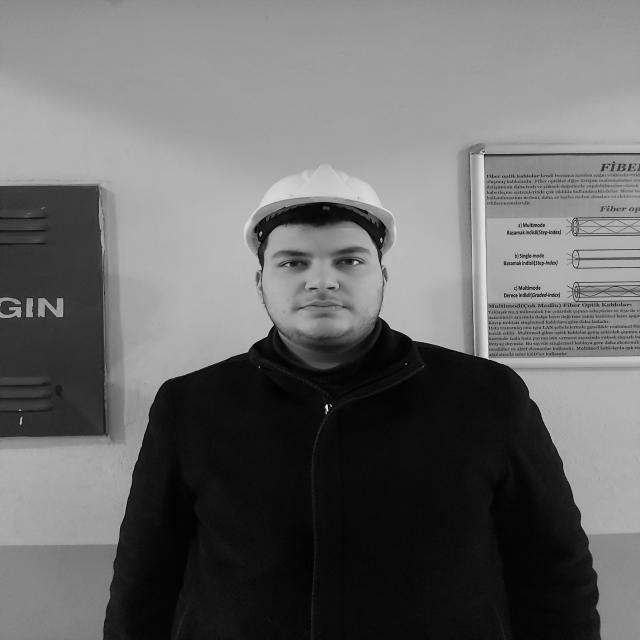construction helmet: (244, 168, 397, 270)
